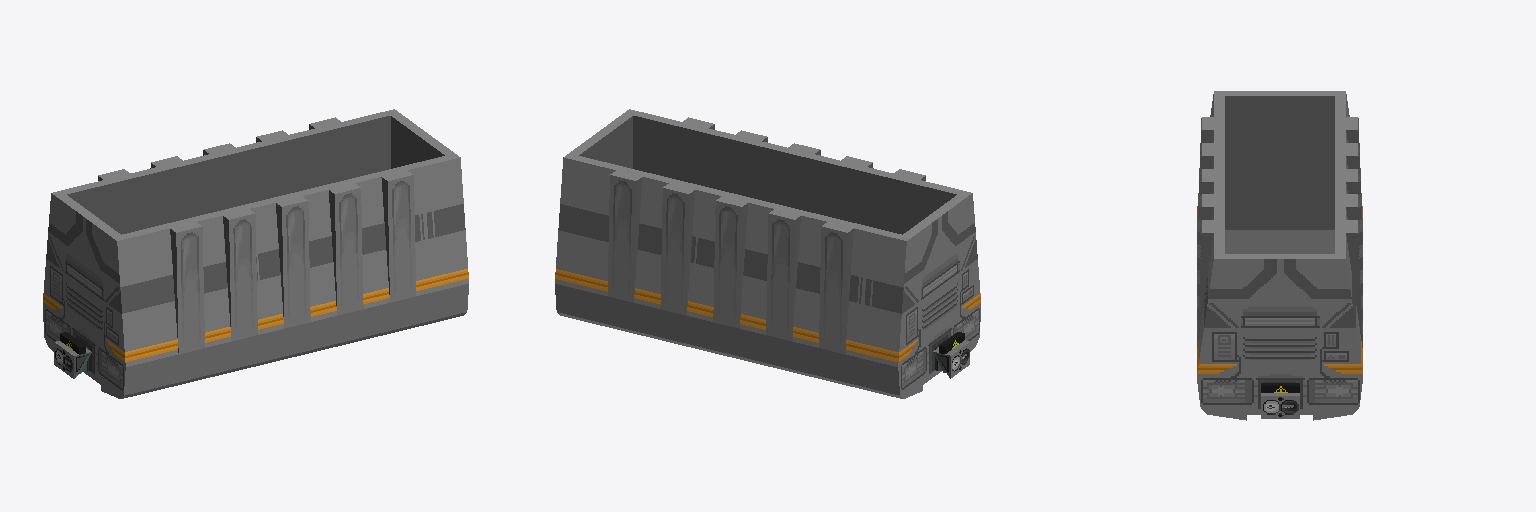
3 renders of one model, left to right at view 1: azimuth 30°, elevation 25°; view 2: azimuth 150°, elevation 25°; view 3: azimuth 270°, elevation 25°, orthographic.
Parts seen in each view (by area): view 1: CAB, FRAME; view 2: CAB, FRAME; view 3: CAB, FRAME.
Part boxes in pixels (left/top/right/bottom): CAB: left=43, top=109, right=468, bottom=395; FRAME: left=45, top=312, right=466, bottom=398; CAB: left=555, top=109, right=980, bottom=395; FRAME: left=557, top=312, right=978, bottom=398; CAB: left=1197, top=91, right=1362, bottom=418; FRAME: left=1202, top=409, right=1357, bottom=420.
Size of the model in its own units: 6.72 by 2.7 by 2.52.
Materials: 3 (3 with a texture image).